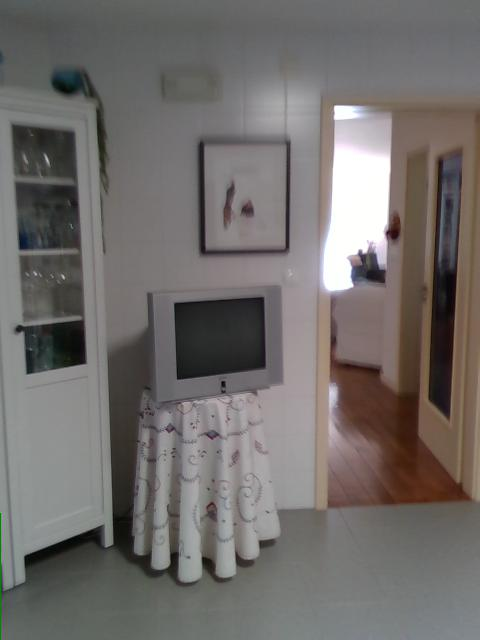open_door: (312, 87, 479, 508)
